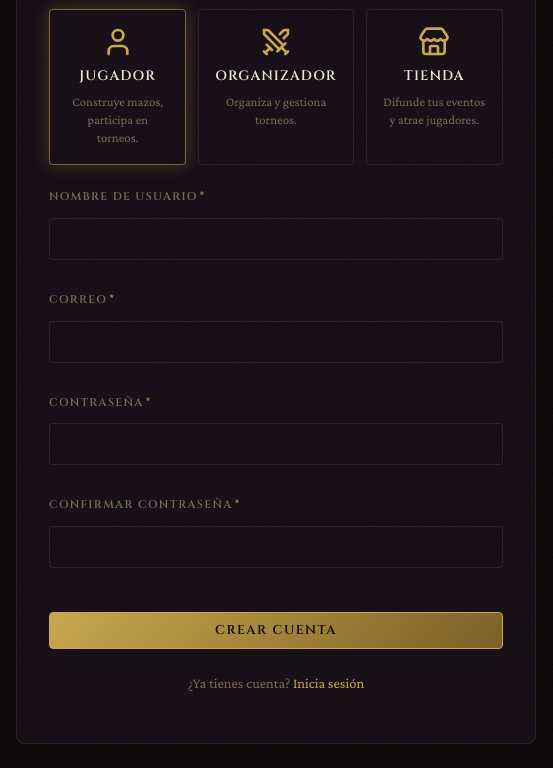
Registro › muestra errores de validación con campos vacíos
The width and height of the screenshot is (553, 768).
(page scrolled)
Click the button "Crear cuenta": point(276, 631) [49, 612, 503, 649]
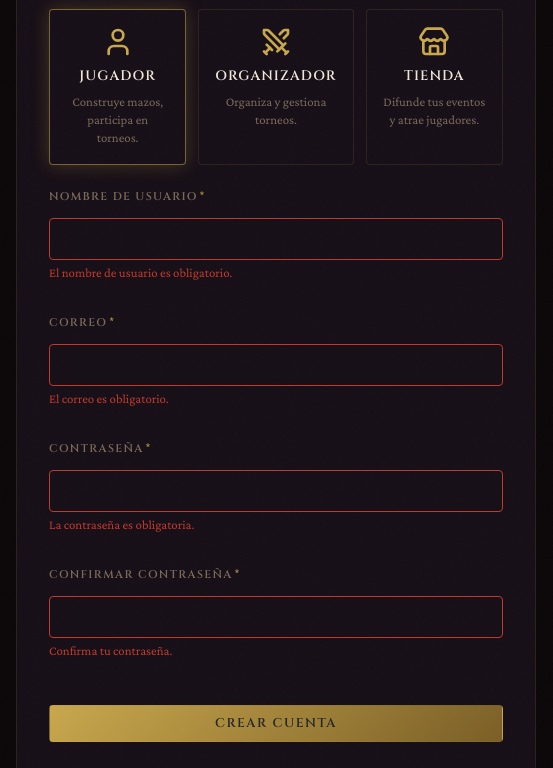
Result: the text "El nombre de usuario es obligatorio." is shown at [49, 266, 232, 280]
